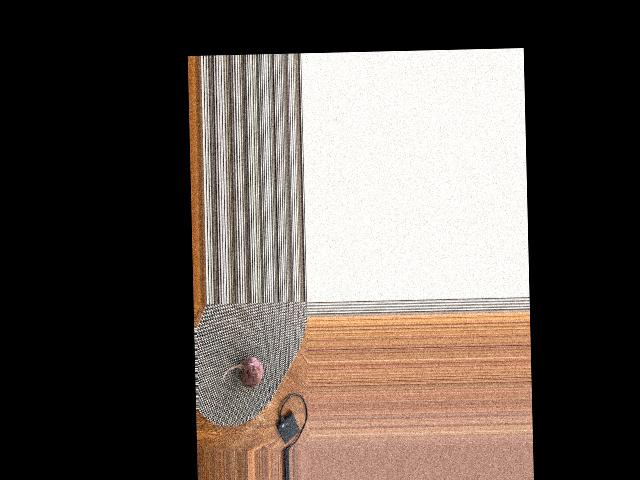beet: (221, 356, 262, 388)
